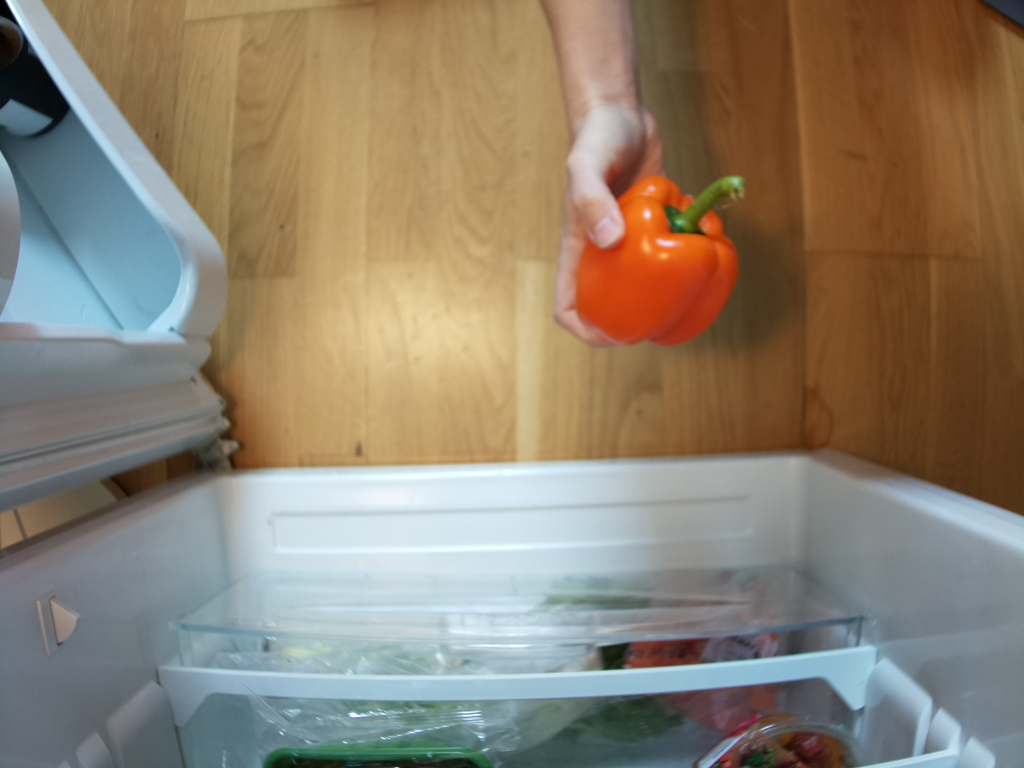pepper: (572, 173, 750, 350)
